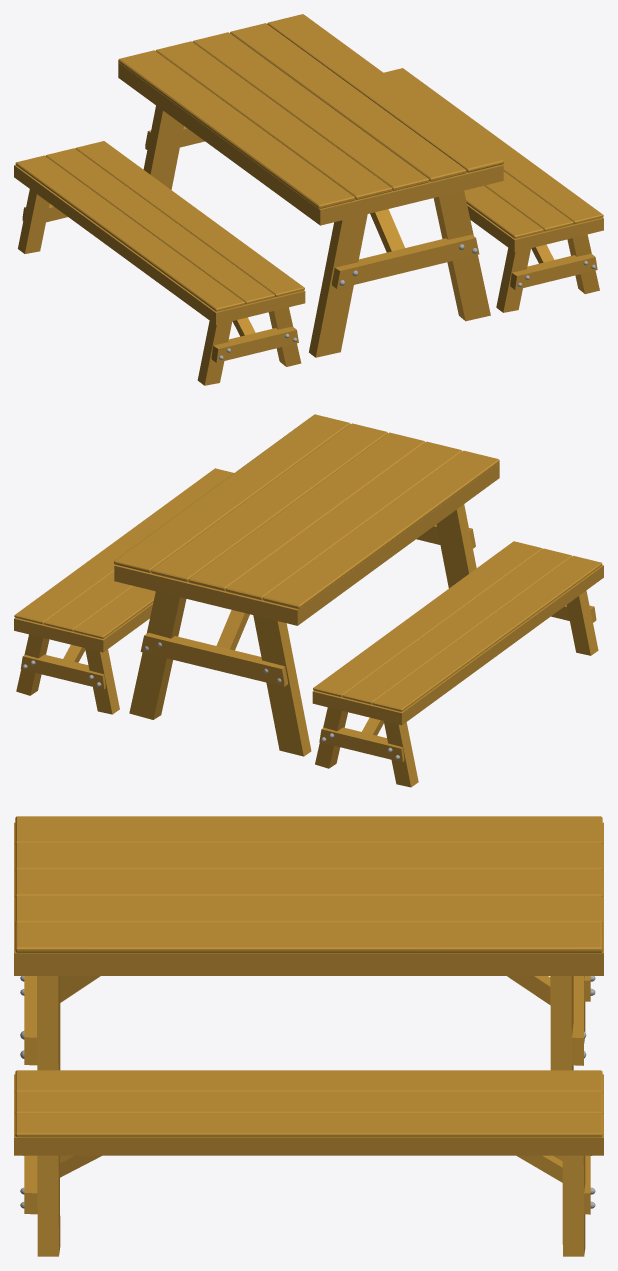
File: bench.fbx
3 renders of one model, top to bottom at view 1: azimuth 30°, elevation 25°; view 2: azimuth 150°, elevation 25°; view 3: azimuth 270°, elevation 25°, orthographic. The views are drawn at different scales.
Parts seen in each view (by area): view 1: screw26, screw25, plank4, plank2, plank1, plank3, plank, top1, leg, leg2, leg1, leg3 (+1 smaller); view 2: screw26, screw25, plank4, plank1, plank2, plank3, plank, top1, leg3, leg5, leg4, leg (+1 smaller); view 3: screw25, plank2, plank3, plank, plank1, plank4, top1, leg2, leg5, leg1, leg4, innerLeg.
Boxes of the visible parts, <box> form: screw26: <box>14,141,305,385</box>; screw25: <box>384,68,603,312</box>; plank4: <box>118,50,354,208</box>; plank2: <box>267,14,503,172</box>; plank1: <box>230,23,466,181</box>; plank3: <box>155,41,392,199</box>; plank: <box>192,32,429,190</box>; top1: <box>118,62,503,225</box>; leg: <box>309,214,367,357</box>; leg2: <box>433,190,490,321</box>; leg1: <box>332,234,479,288</box>; leg3: <box>143,105,183,189</box>; screw26: <box>312,541,603,787</box>; screw25: <box>14,468,233,714</box>; plank4: <box>263,450,499,609</box>; plank1: <box>151,423,387,581</box>; plank2: <box>114,414,350,572</box>; plank3: <box>225,441,462,600</box>; plank: <box>188,432,425,591</box>; top1: <box>114,462,499,625</box>; leg3: <box>253,615,311,756</box>; leg5: <box>129,591,186,719</box>; leg4: <box>140,633,287,686</box>; leg: <box>436,504,476,588</box>; screw25: <box>14,1070,603,1256</box>; plank2: <box>15,922,602,952</box>; plank3: <box>15,842,602,870</box>; plank: <box>15,869,602,896</box>; plank1: <box>15,896,602,924</box>; plank4: <box>15,816,602,843</box>; top1: <box>14,822,603,975</box>; leg2: <box>37,976,60,1155</box>; leg5: <box>550,976,573,1160</box>; leg1: <box>24,976,37,1065</box>; leg4: <box>572,976,583,1065</box>; innerLeg: <box>507,976,550,1004</box>.
Size of the model in its own units: 5.66 by 2.21 by 5.
